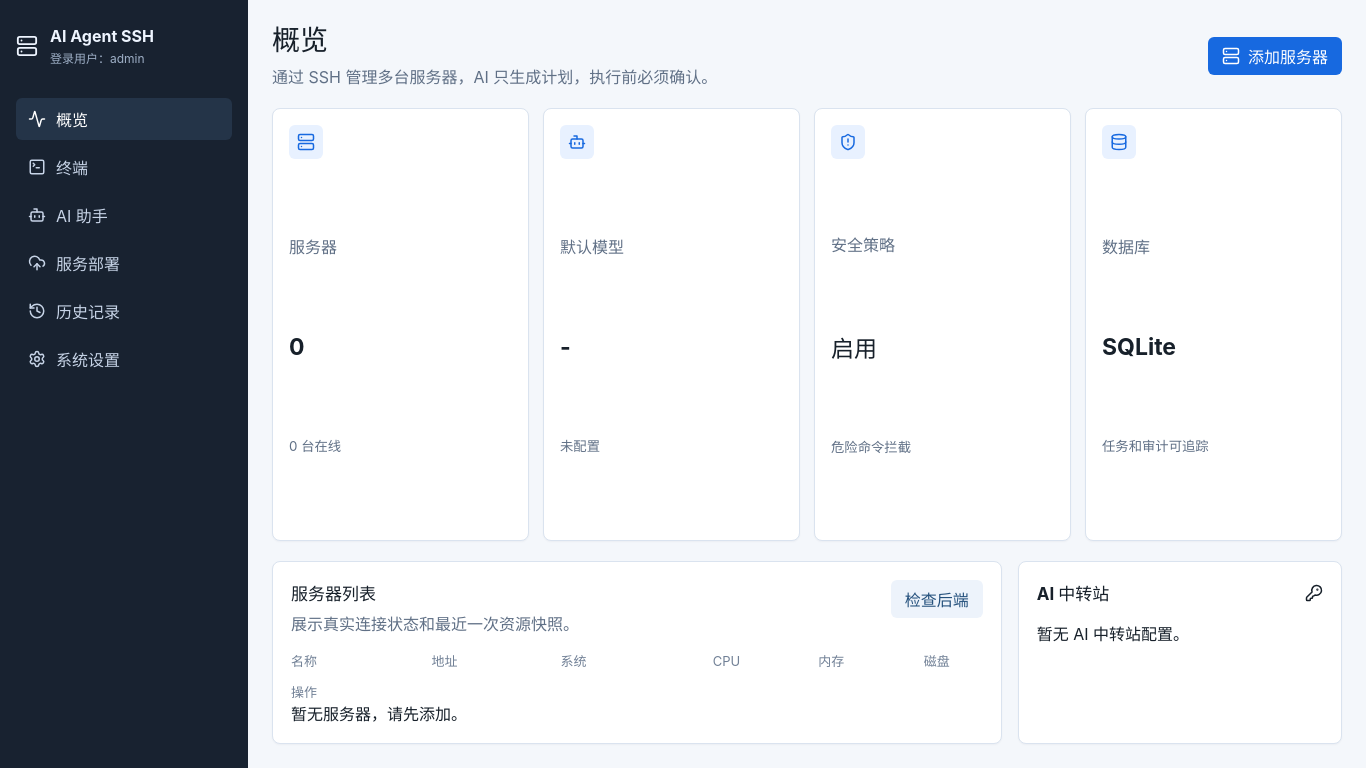
App interactions › checks backend health through the API
Click the button "检查后端".
click(937, 599)  # box [891,580,983,618]
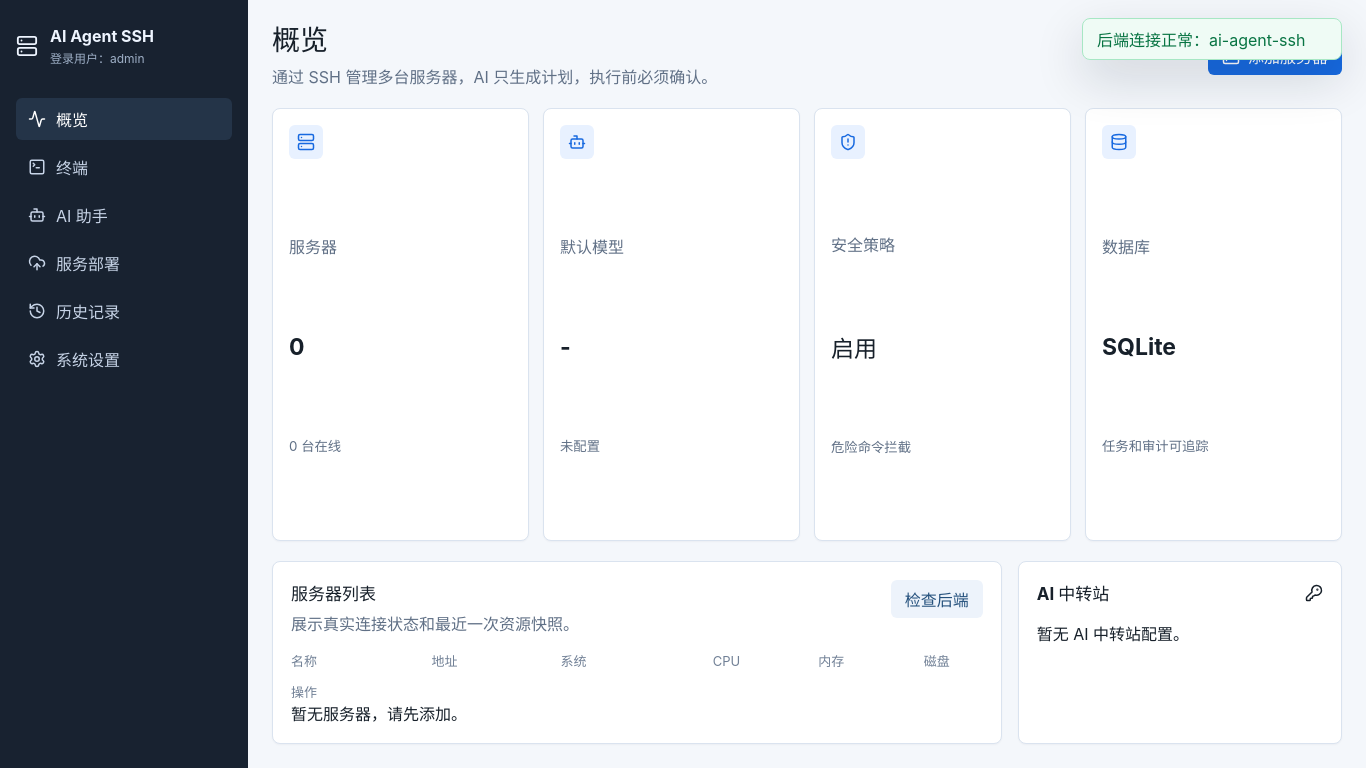
Check: the text "后端连接正常：ai-agent-ssh" is shown, box [1082,18,1342,60]
